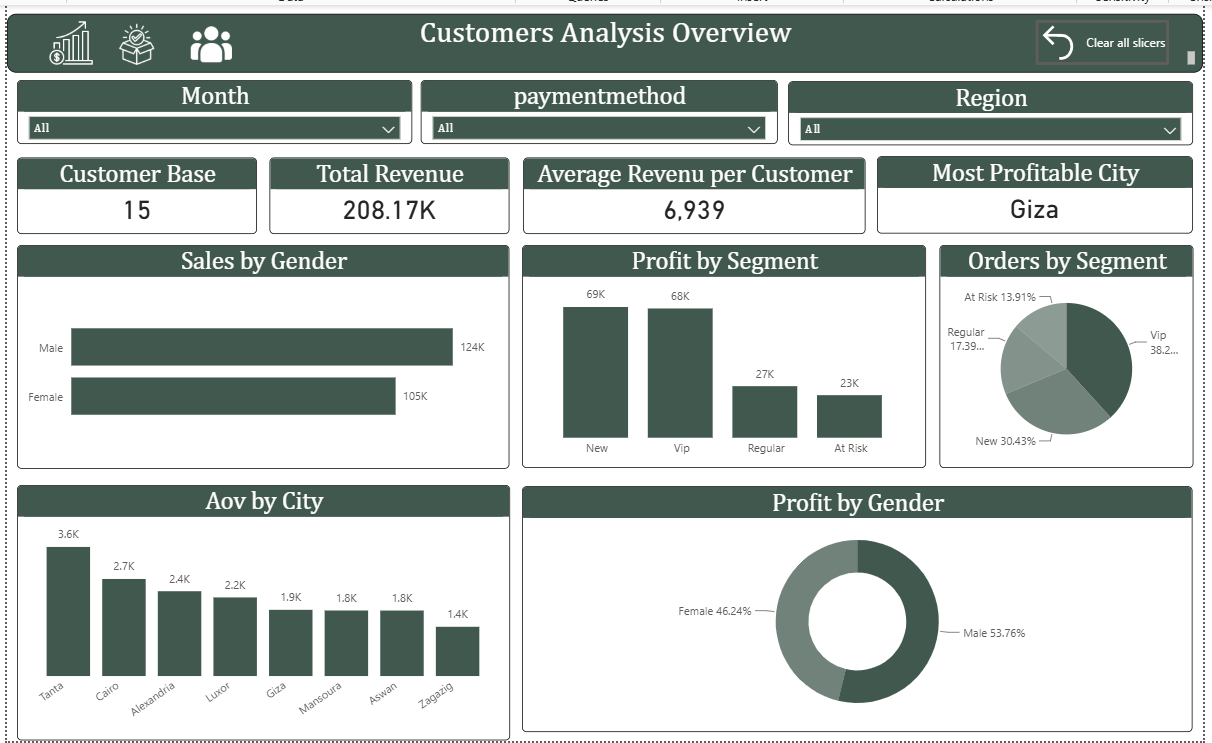

This screenshot's page, from the dashboard's own definition file:
{"tool":"powerbi","page":{"name":"customer page","canvas":[1300,800],"ordinal":2},"visuals":[{"type":"slicer","title":"paymentmethod","fields":{"Values":["TotalOrders.PaymentMethod"]},"box":[450,81.9,387.6,69.7],"z":0},{"type":"slicer","title":"Region","fields":{"Values":["TotalOrders.Region"]},"box":[848.7,82.2,440.4,69.7],"z":1000},{"type":"slicer","title":"Month","fields":{"Values":["TotalOrders.OrderDate.Variation.Date Hierarchy.Month"]},"box":[11,81.9,429.2,69.7],"z":2000},{"type":"image","box":[132.1,15.4,222.6,44],"z":3000},{"type":"textbox","title":"Customers Analysis Overview","box":[0,9.8,1300.3,64.1],"z":4000},{"type":"actionButton","box":[1117.7,16.7,144.9,48.8],"z":5000},{"type":"image","box":[29.3,20.9,223,44.6],"z":6000},{"type":"image","box":[11.1,18.1,117.1,47.4],"z":7000},{"type":"image","box":[199.3,20.9,44.6,44.6],"z":8000},{"type":"card","title":"Customer Base","fields":{"Values":["Measuress.8.TotalProducts"]},"box":[11,165.1,260.5,83.2],"z":9000},{"type":"card","title":"Average Revenu per Customer ","fields":{"Values":["Measuress.Avg Revenue Per Customer"]},"box":[560.5,165.1,371.7,83.2],"z":10000},{"type":"card","title":"Total Revenue","fields":{"Values":["Measuress.7.Revenue"]},"box":[285.7,165.1,260.5,83.2],"z":11000},{"type":"card","title":"Most Profitable  City ","fields":{"Values":["MEASURESS.Most Profitable City"]},"box":[946.3,164.5,342.8,83.6],"z":12000},{"type":"pieChart","title":"Orders by Segment","fields":{"Y":["Measuress.1.TotalOrders"],"Category":["CustomerMaster.CustomerSegment"]},"box":[1013.2,260.6,275.9,242.5],"z":13000},{"type":"barChart","title":"Sales by Gender","fields":{"Y":["MEASURESS.4.TotalSales"],"Category":["CustomerMaster.Gender"]},"box":[11,260.7,535.2,242.9],"z":14000},{"type":"columnChart","title":"Aov by City","fields":{"Category":["CustomerMaster.CustomerCity"],"Y":["MEASURESS.5.AOV"]},"box":[10.5,522.3,535.8,277.7],"z":15000},{"type":"columnChart","title":"Profit by Segment","fields":{"Category":["CustomerMaster.CustomerSegment"],"Y":["MEASURESS.99.totalprofit"]},"box":[560.3,260.6,439,242.5],"z":16000},{"type":"donutChart","title":"Profit by Gender","fields":{"Category":["CustomerMaster.Gender"],"Y":["MEASURESS.99.totalprofit"]},"box":[560.3,522.6,728.9,267.6],"z":17000}]}

Visuals, with their boxes on the page's 1300x800 design canvas (x1, y1, x2, y2). These are canvas units, not pixel positions in the 1212x743 screenshot, which may show the page scaled, cropped or inside an application window:
"paymentmethod" slicer: (450, 82, 838, 152)
"Region" slicer: (849, 82, 1289, 152)
"Month" slicer: (11, 82, 440, 152)
image: (132, 15, 355, 59)
"Customers Analysis Overview" textbox: (0, 10, 1300, 74)
actionButton: (1118, 17, 1263, 66)
image: (29, 21, 252, 66)
image: (11, 18, 128, 66)
image: (199, 21, 244, 66)
"Customer Base" card: (11, 165, 272, 248)
"Average Revenu per Customer " card: (560, 165, 932, 248)
"Total Revenue" card: (286, 165, 546, 248)
"Most Profitable  City " card: (946, 164, 1289, 248)
"Orders by Segment" pieChart: (1013, 261, 1289, 503)
"Sales by Gender" barChart: (11, 261, 546, 504)
"Aov by City" columnChart: (10, 522, 546, 800)
"Profit by Segment" columnChart: (560, 261, 999, 503)
"Profit by Gender" donutChart: (560, 523, 1289, 790)
